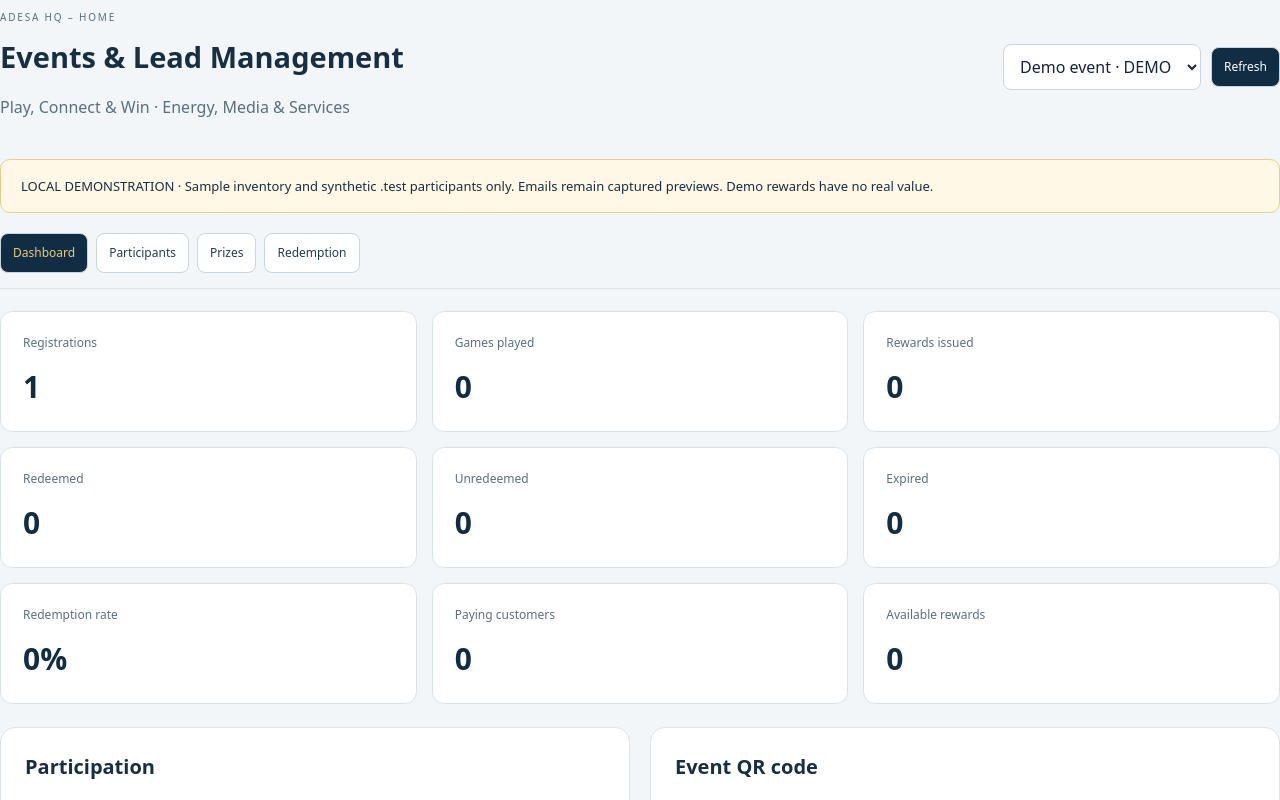
does not grant redemption controls to a viewer
The width and height of the screenshot is (1280, 800).
Expected: the text "Registrations" is shown, 23,334 -> 97,351
Click the button "Redemption".
click(312, 253)  # box 264,233 -> 360,273
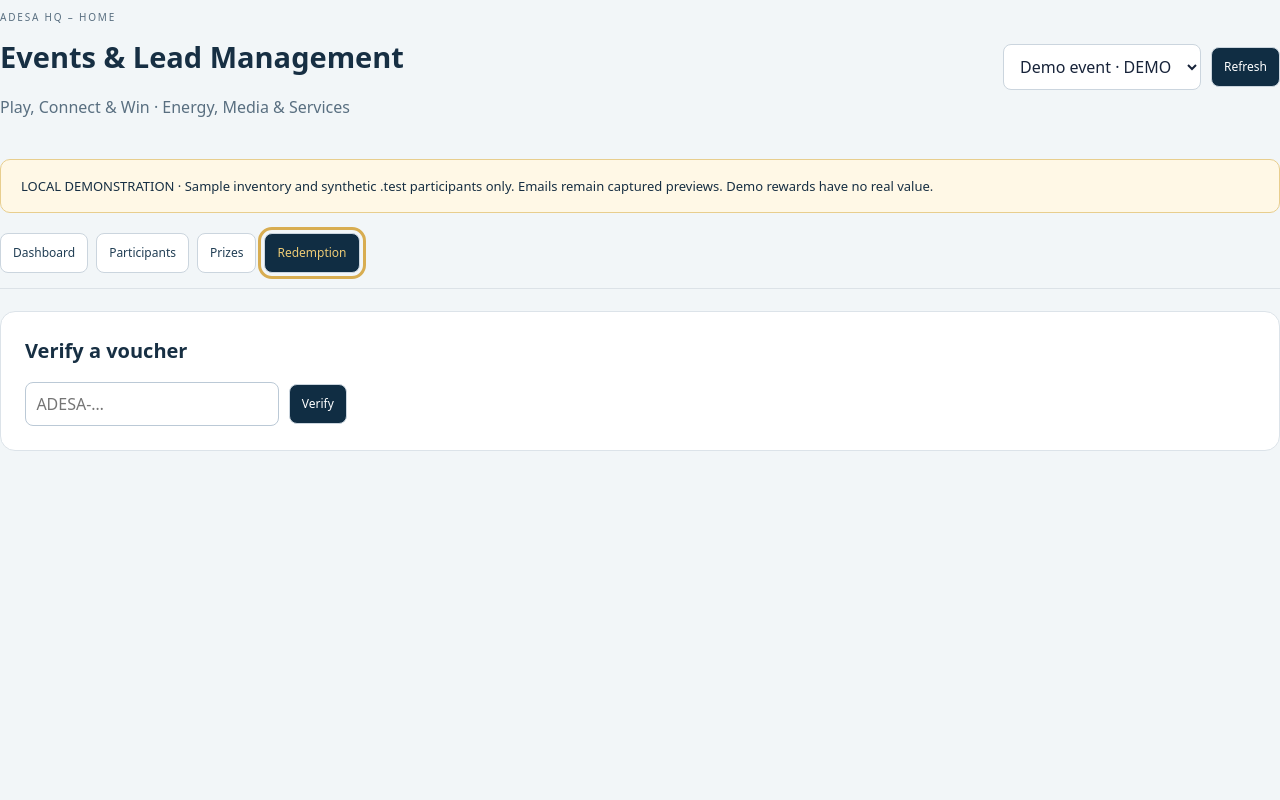
Result: the button "Verify" is shown at 289,384 -> 347,424
